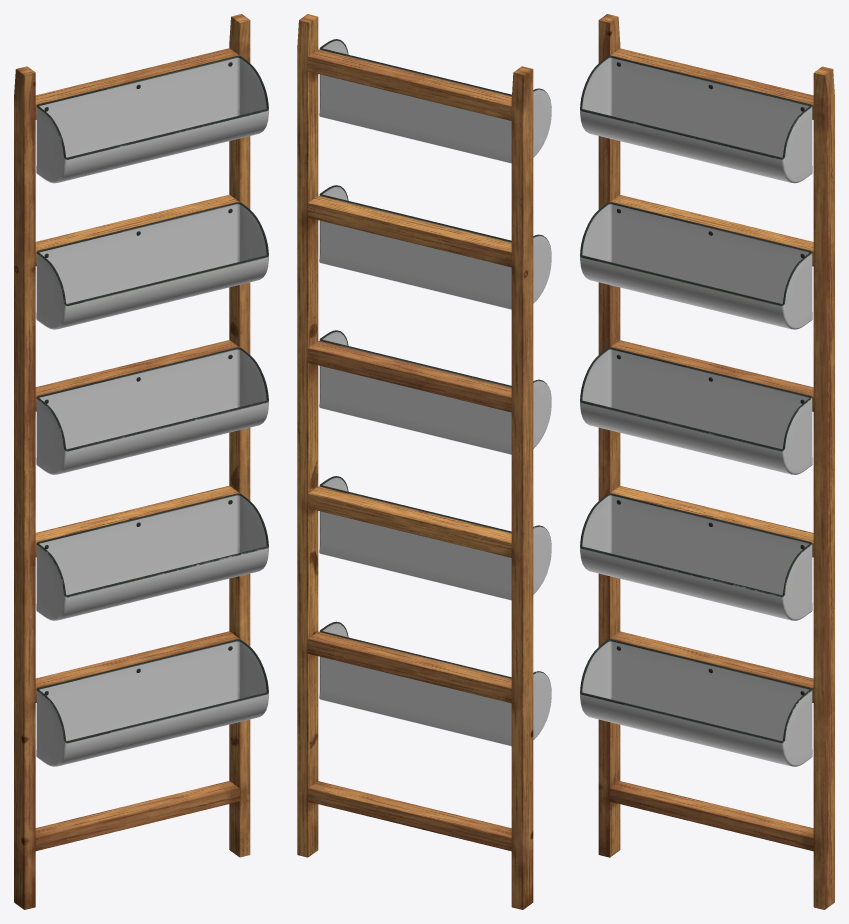
The model's file is abo-B07HSMVFJW.glb.
The picture shows the model from 3 angles, left to right: view 1: azimuth 30°, elevation 25°; view 2: azimuth 150°, elevation 25°; view 3: azimuth 330°, elevation 25°; orthographic projection.
Bounding box in the file's own units: 0.454 × 1.6 × 0.141.
Materials: 1 (1 with a texture image).
